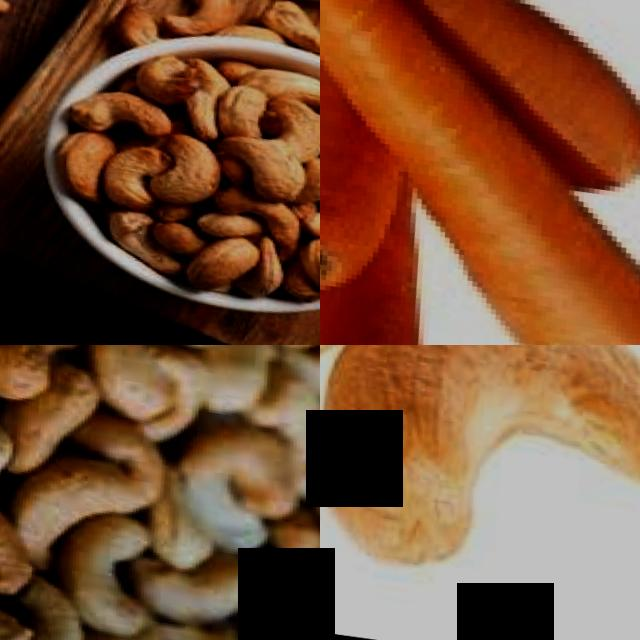carrot: (446, 201, 640, 345), (475, 0, 640, 167), (320, 74, 404, 317)
cashew: (320, 345, 640, 599), (48, 520, 148, 632), (0, 361, 83, 482), (211, 119, 316, 213), (127, 545, 244, 627), (63, 345, 186, 420), (4, 445, 103, 534), (57, 80, 179, 143), (42, 116, 105, 211), (97, 129, 165, 217), (156, 125, 221, 206), (179, 229, 258, 295), (248, 0, 320, 65), (0, 345, 68, 412), (158, 0, 253, 42), (6, 584, 77, 640), (97, 0, 169, 50), (280, 243, 320, 303), (0, 0, 49, 33)
